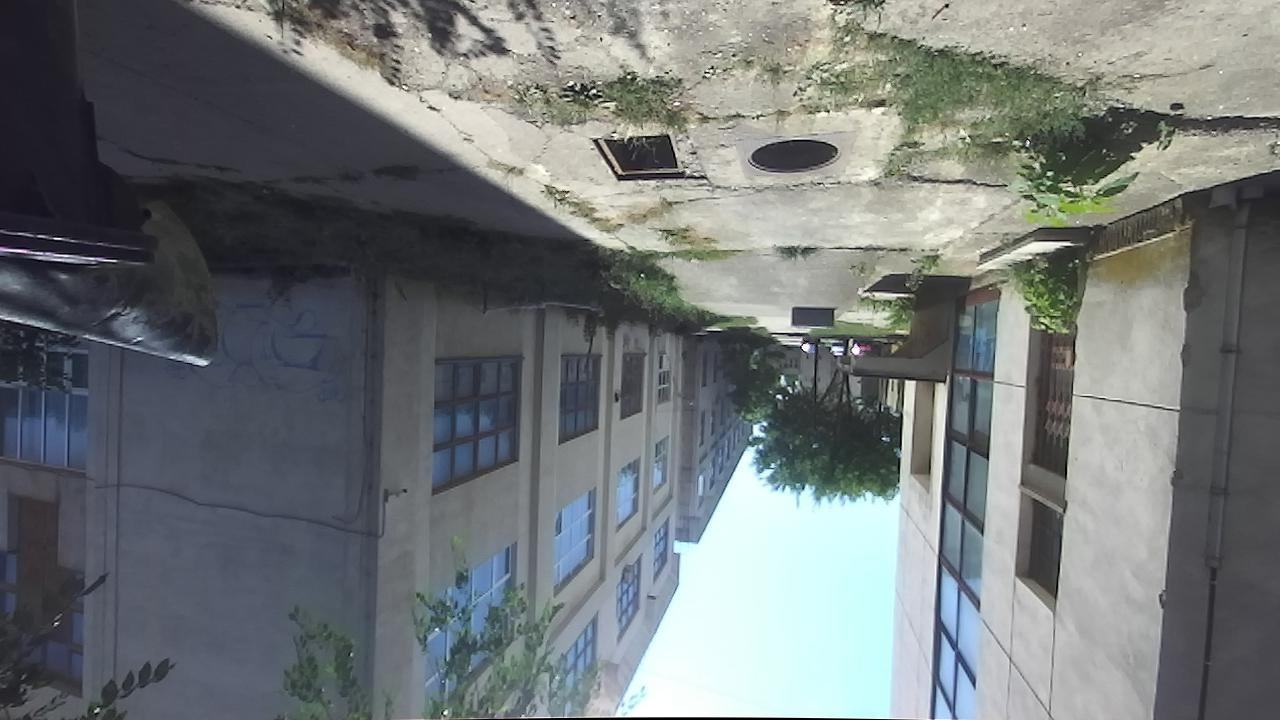drain: (586, 130, 690, 183), (742, 136, 848, 177)
